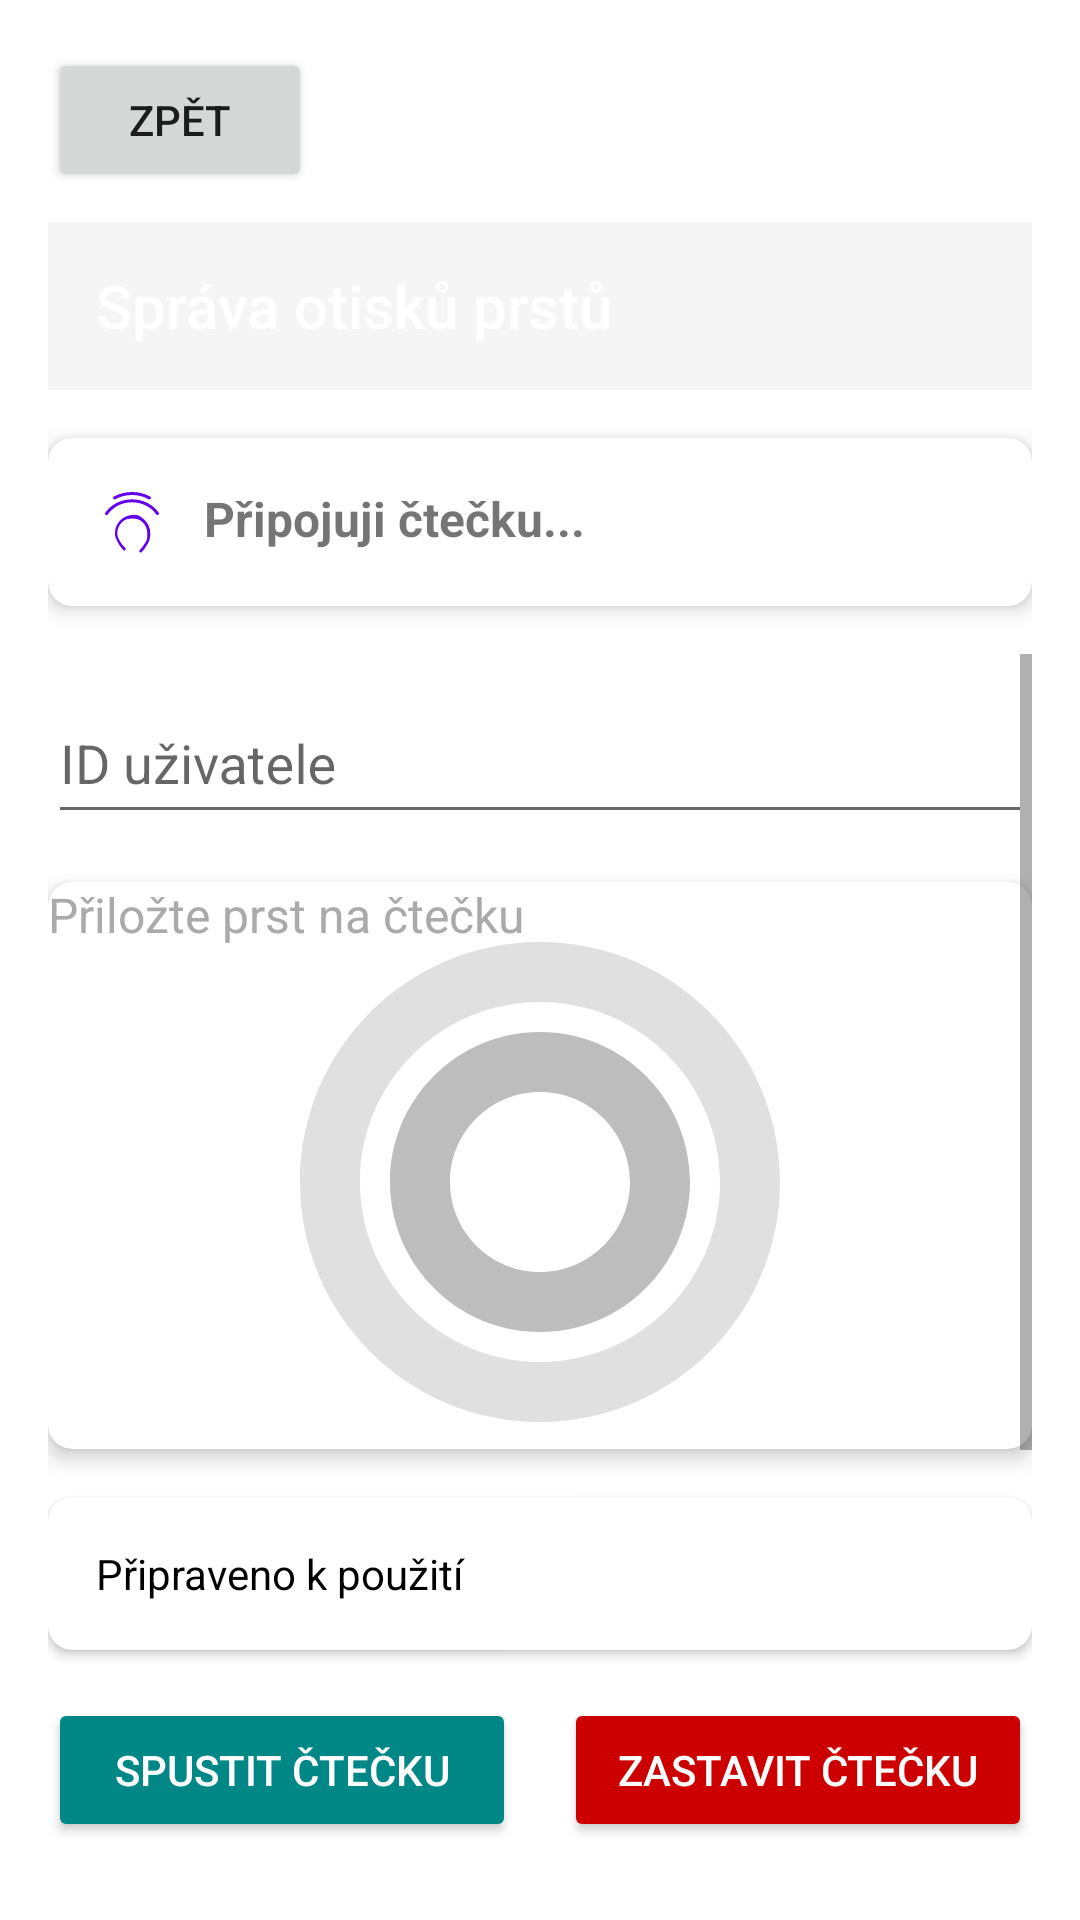

Where icons sit on this 1080x1920 app screen, as [x1, y1, x2, y2]:
fingerprint: [105, 492, 159, 553]
